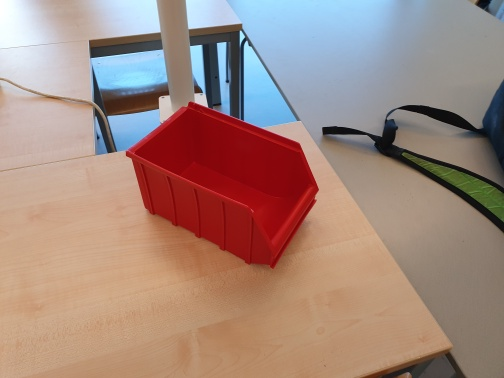tray_left: (124, 148, 277, 271)
